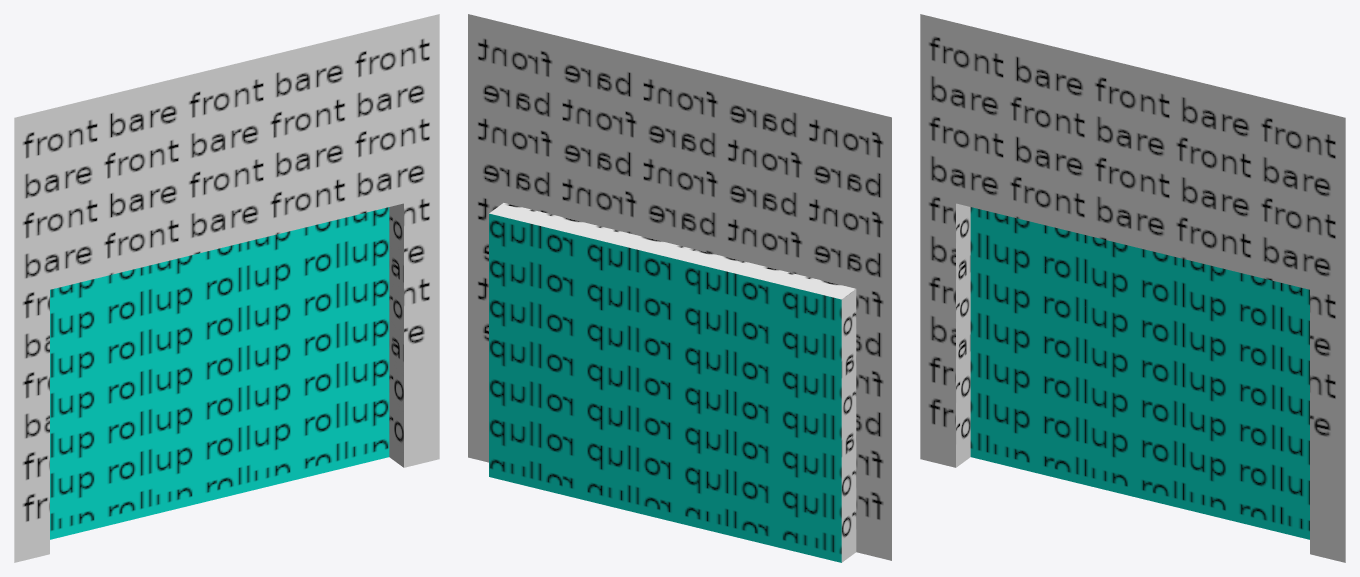
File: rollup.gltf
3 renders of one model, left to right at view 1: azimuth 30°, elevation 25°; view 2: azimuth 150°, elevation 25°; view 3: azimuth 330°, elevation 25°, orthographic.
Parts seen in each view (by area): view 1: rollup; view 2: rollup; view 3: rollup.
Boxes of the visible parts, box(x1,y1,x2,y2) form: rollup: box(14, 14, 439, 562); rollup: box(468, 14, 891, 562); rollup: box(920, 14, 1345, 562).
Size of the model in its own units: 5 by 5 by 0.3.
2 materials, 2 textured.
